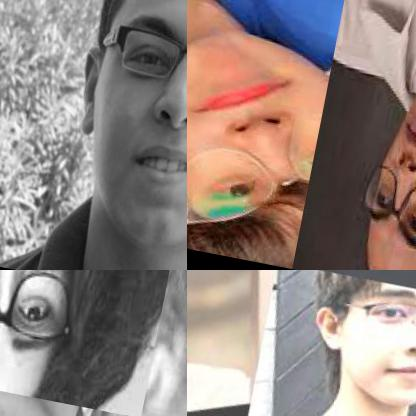Glasses: (323, 274, 415, 389)
glasses: (187, 82, 322, 256), (84, 14, 186, 104), (0, 270, 87, 367), (356, 162, 415, 240)
